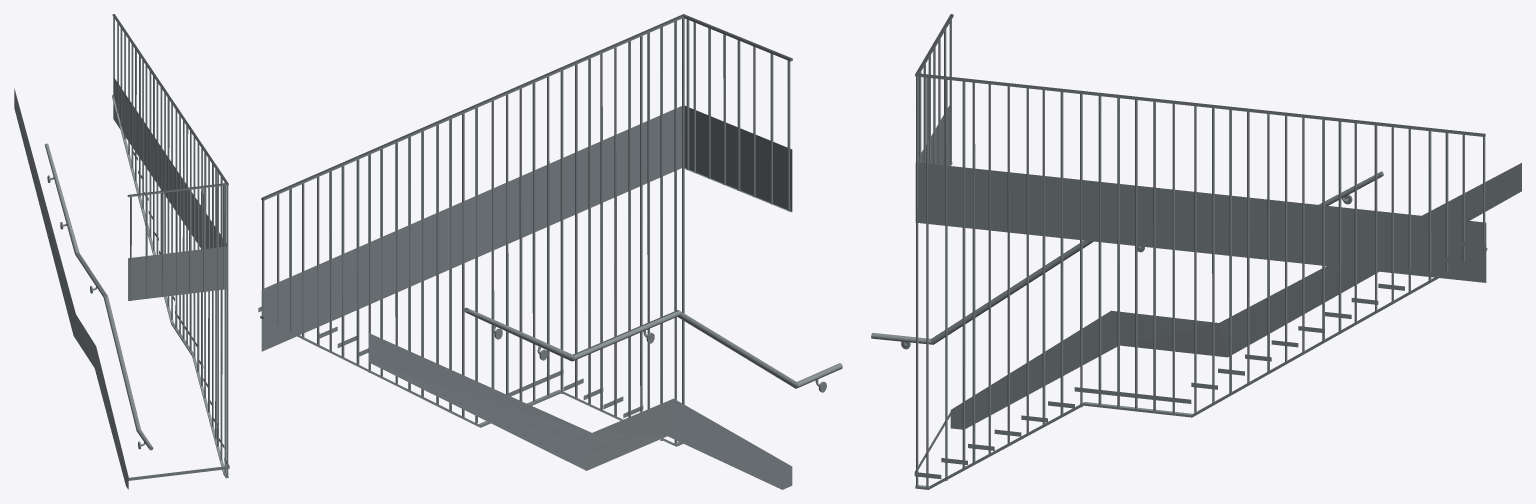
The model's file is escaleras_pasillo_2_2.glb.
The picture shows the model from 3 angles, left to right: view 1: azimuth 30°, elevation 25°; view 2: azimuth 150°, elevation 25°; view 3: azimuth 270°, elevation 25°; orthographic projection. The views are drawn at different scales.
Visible parts, largest first — view 1: escalon.003; view 2: escalon.003; view 3: escalon.003.
Part boxes in pixels (bbox=[...]): escalon.003: bbox=[14, 14, 229, 489]; escalon.003: bbox=[258, 14, 842, 489]; escalon.003: bbox=[871, 14, 1521, 489].
Bounding box in the file's own units: 16.21 × 24.62 × 35.05.
Materials: 2 (1 with a texture image).
